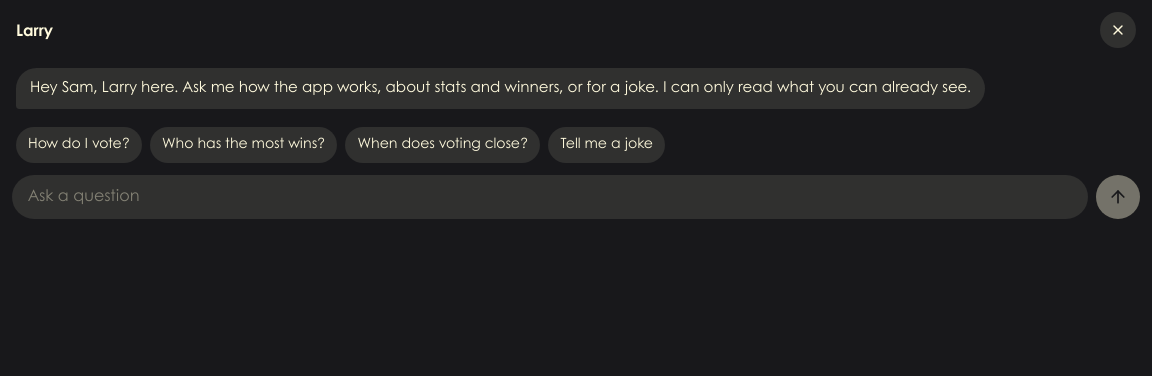
Test: Ask Larry panel › an offline error offers Try again that resends the question
This screenshot has width=1152, height=376.
What coordinates should you click on to do the following:
click the button "Tell me a joke"
I would click on:
 (607, 145)
Its box is [548,127,665,163].
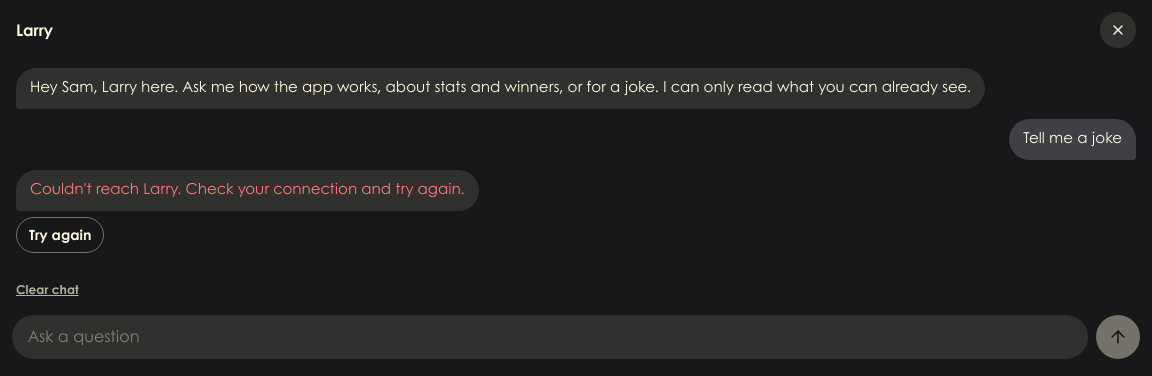
What coordinates should you click on to do the following:
click the button "Try again"
I would click on:
 (60, 235)
Its box is [16,217,104,253].
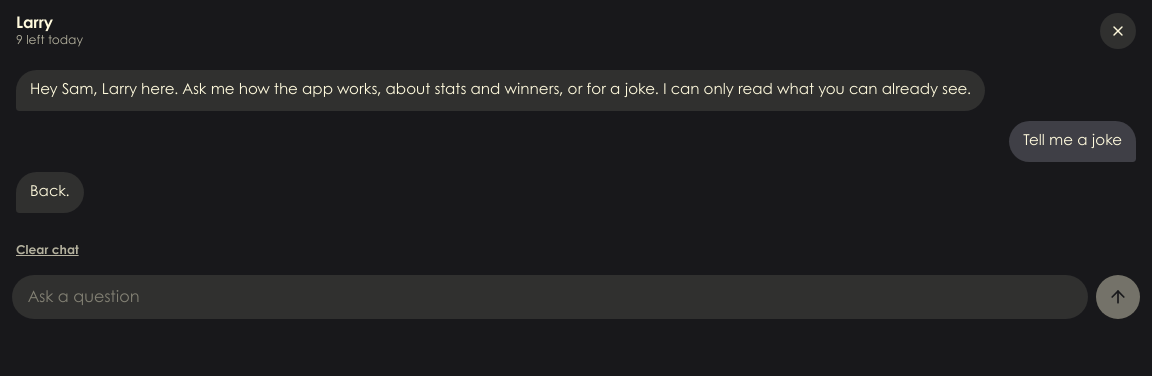
Result: the text "Tell me a joke" is shown once at [1009,121,1136,162]
Result: the text "Back." is shown at [30,185,70,199]
